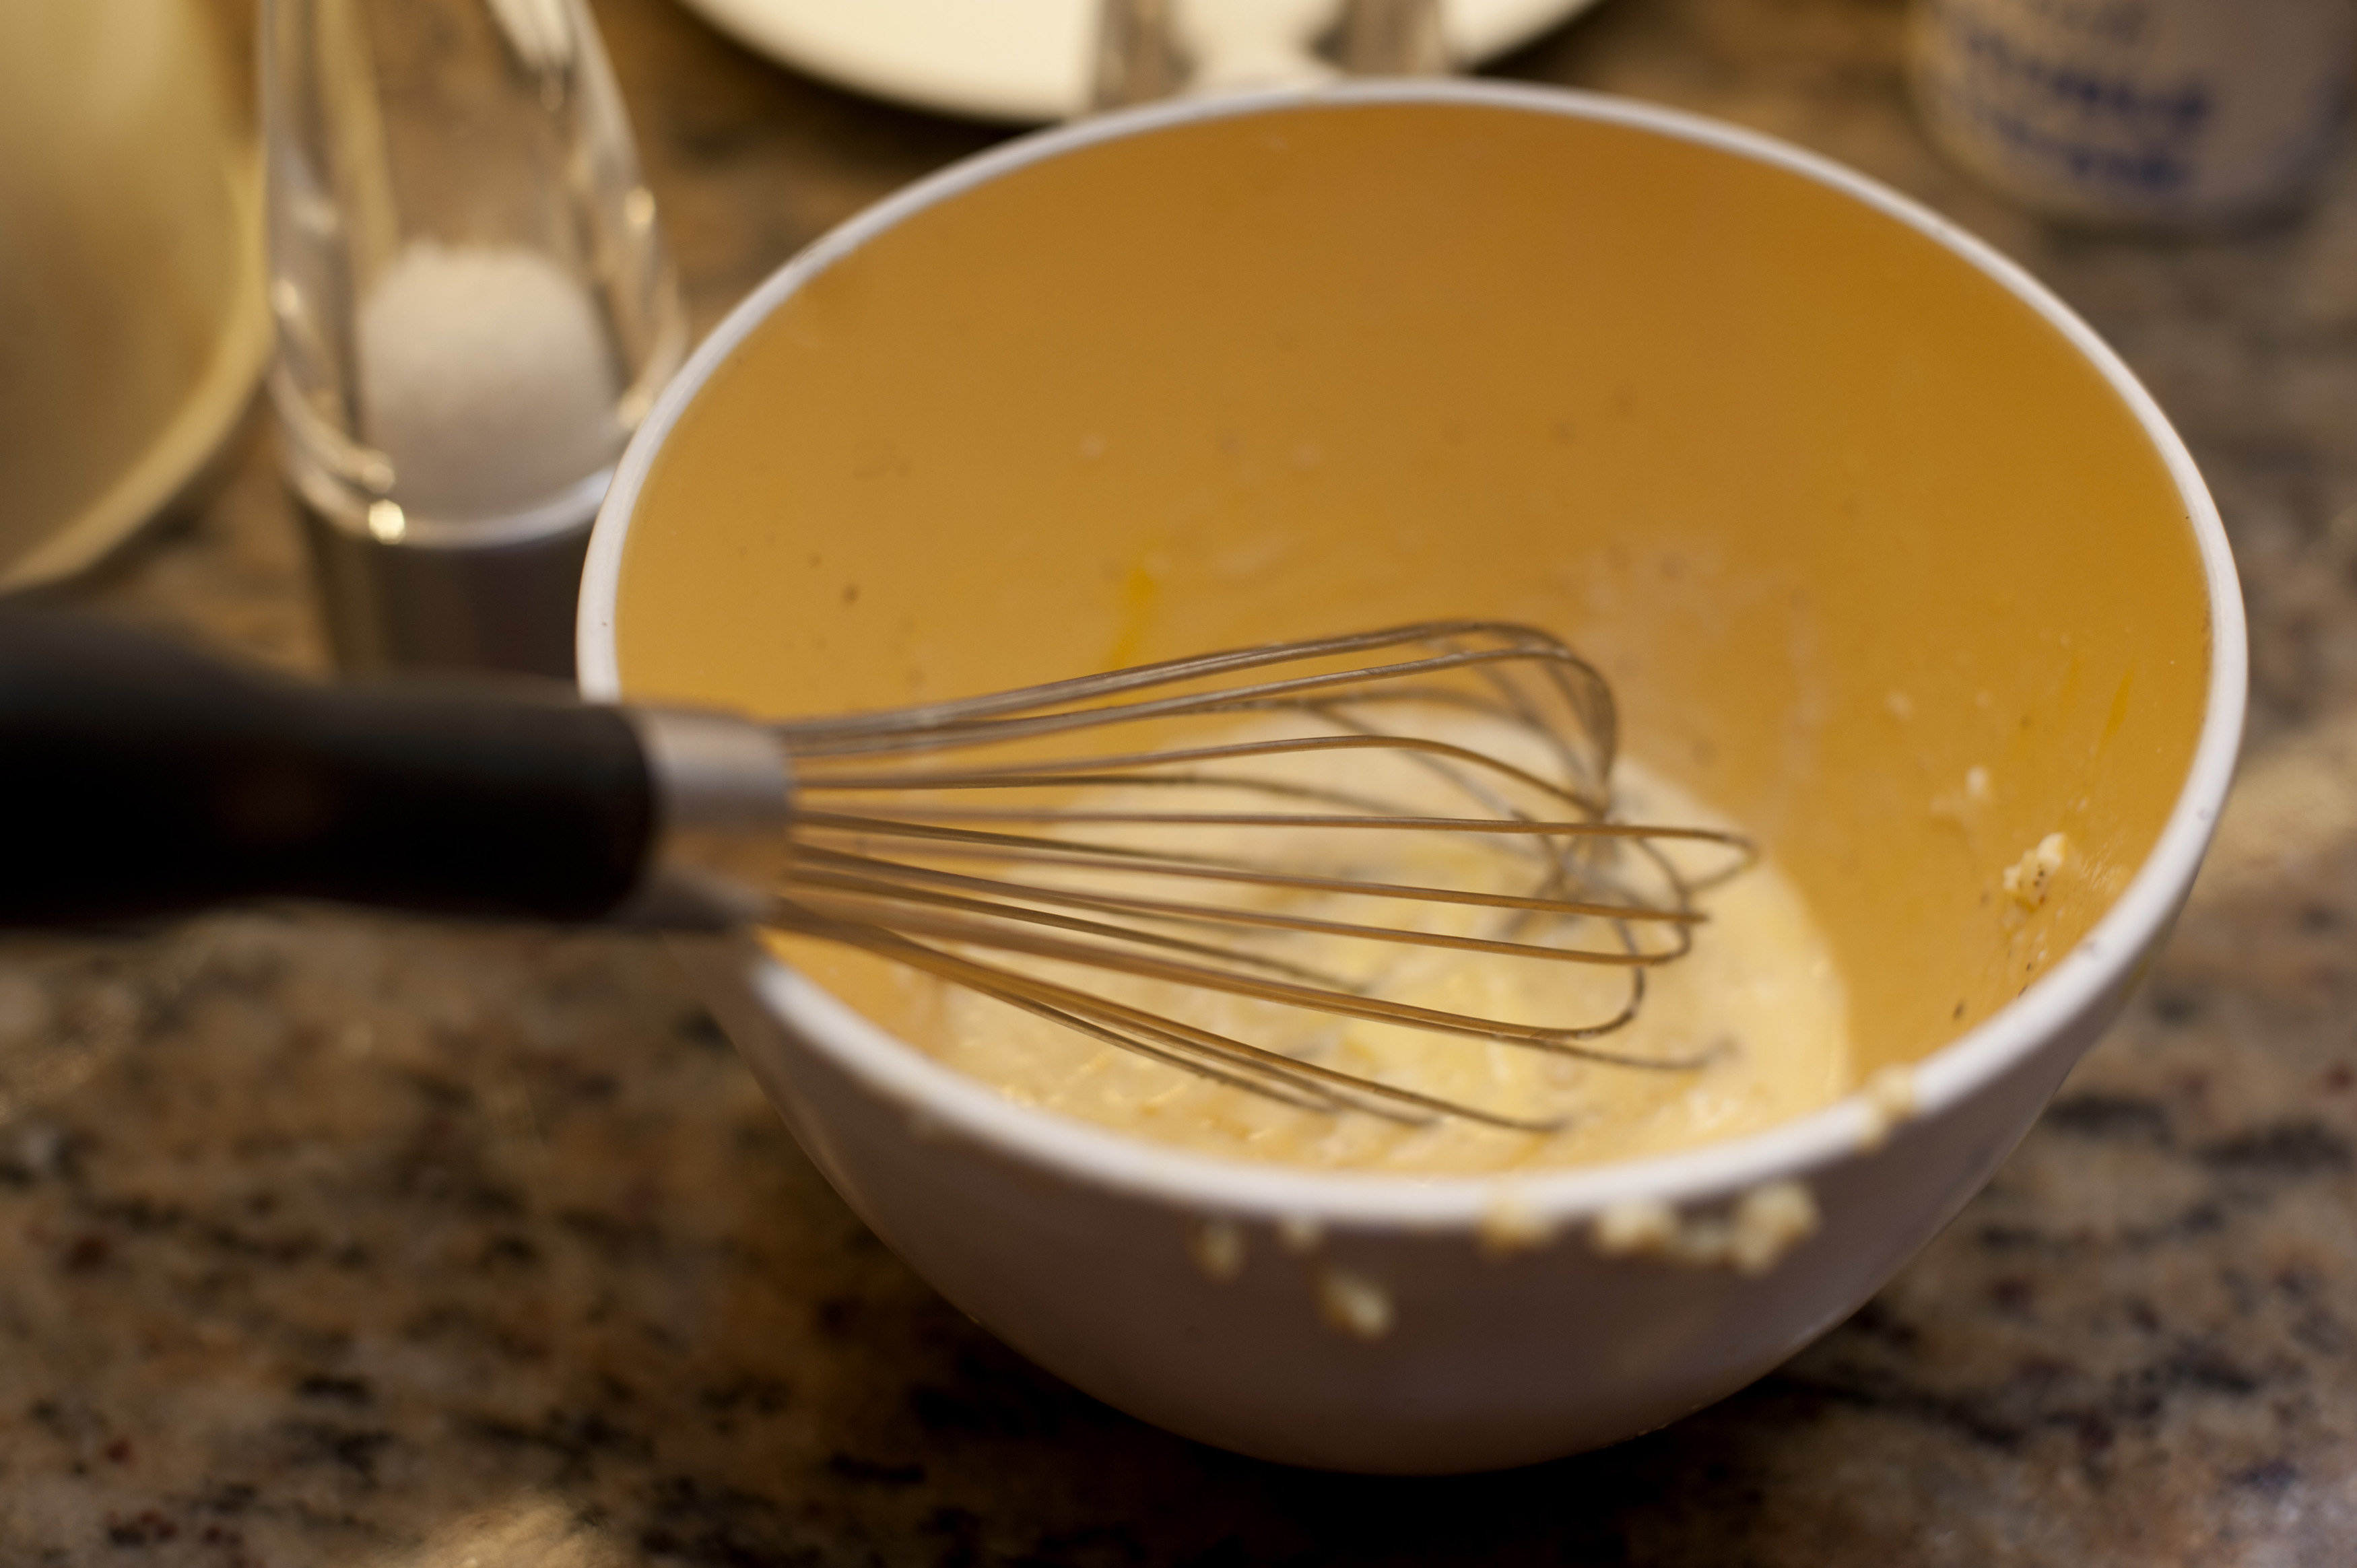bowl: (525, 72, 2264, 1475)
